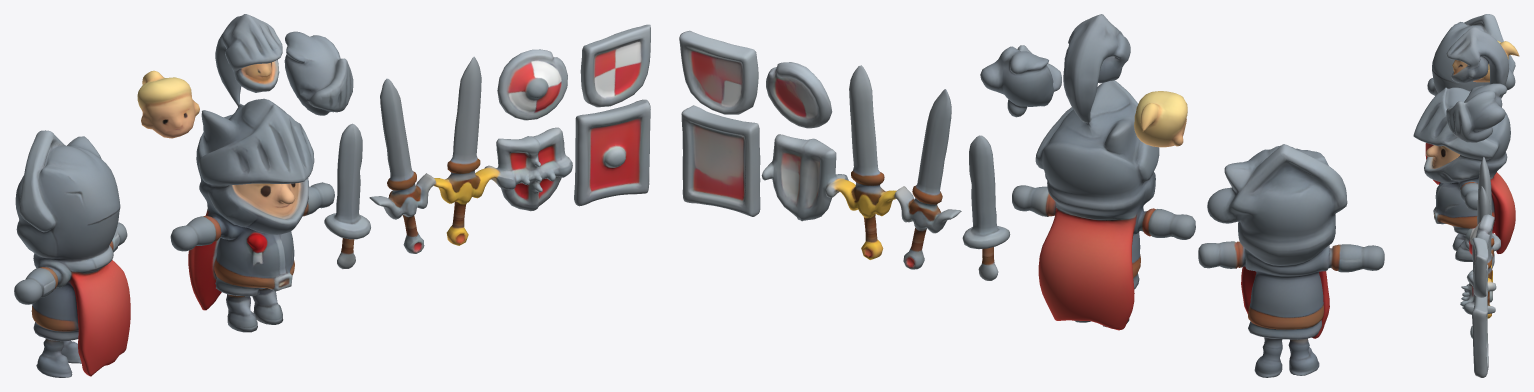
The model's file is ThanhGiong_IronHorse_base_basic_pbr.fbx.
3 views of the same model, side by side, from view 1: azimuth 30°, elevation 25°; view 2: azimuth 150°, elevation 25°; view 3: azimuth 270°, elevation 25° (orthographic). The views are drawn at different scales.
Parts seen in each view (by area): view 1: model; view 2: model; view 3: model.
Part boxes in pixels (bbox=[...]): model: bbox=[14, 14, 650, 377]; model: bbox=[679, 14, 1384, 377]; model: bbox=[1413, 14, 1519, 377].
Bounding box in the file's own units: 190 × 83.06 × 35.58.
1 material, 1 textured.
